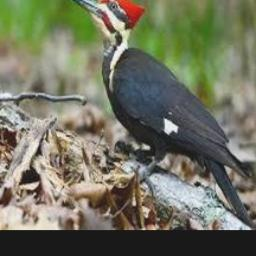Woodpecker: (70, 0, 256, 230)
